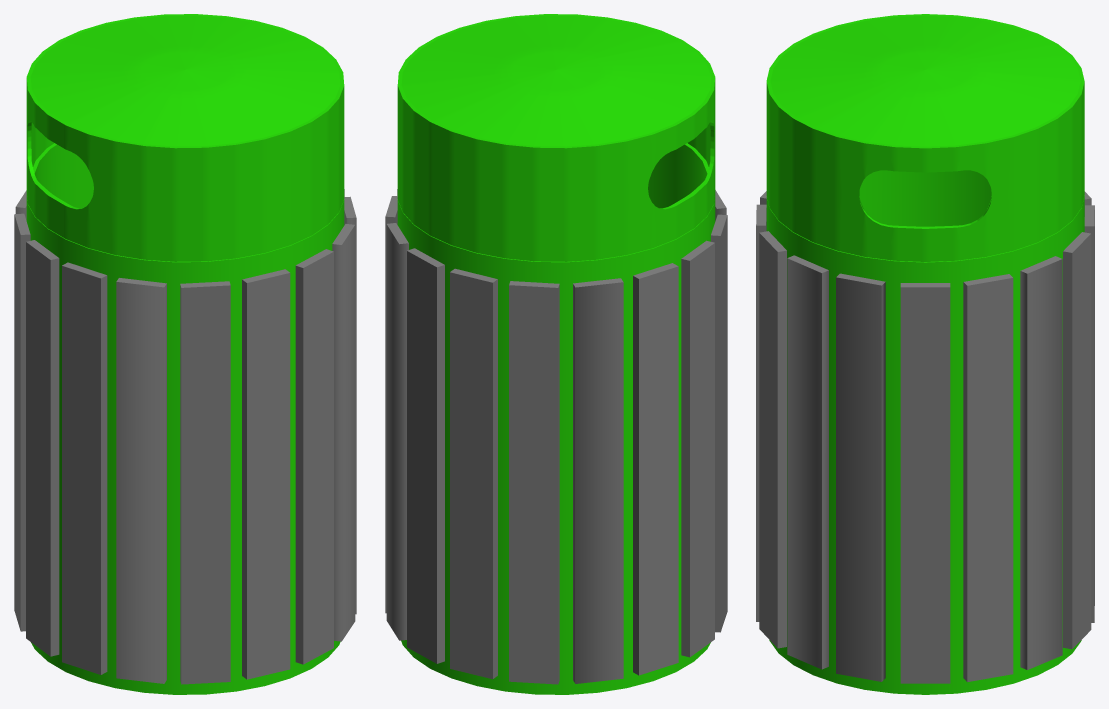
Rendered from RoskakoriV2.3.fbx.
3 renders of one model, left to right at view 1: azimuth 30°, elevation 25°; view 2: azimuth 150°, elevation 25°; view 3: azimuth 270°, elevation 25°, orthographic.
Parts seen in each view (by area): view 1: Cube, Cylinder.001, Cylinder; view 2: Cube, Cylinder.001, Cylinder; view 3: Cube, Cylinder.001, Cylinder.
Part boxes in pixels (x1,y1,x2,y2): Cube: [14, 189, 356, 684]; Cylinder.001: [26, 14, 344, 261]; Cylinder: [26, 143, 344, 694]; Cube: [385, 189, 727, 684]; Cylinder.001: [397, 14, 715, 261]; Cylinder: [397, 143, 715, 694]; Cube: [756, 191, 1094, 683]; Cylinder.001: [766, 14, 1084, 261]; Cylinder: [766, 170, 1084, 694].
Size of the model in its own units: 85.15 by 155 by 85.19.
